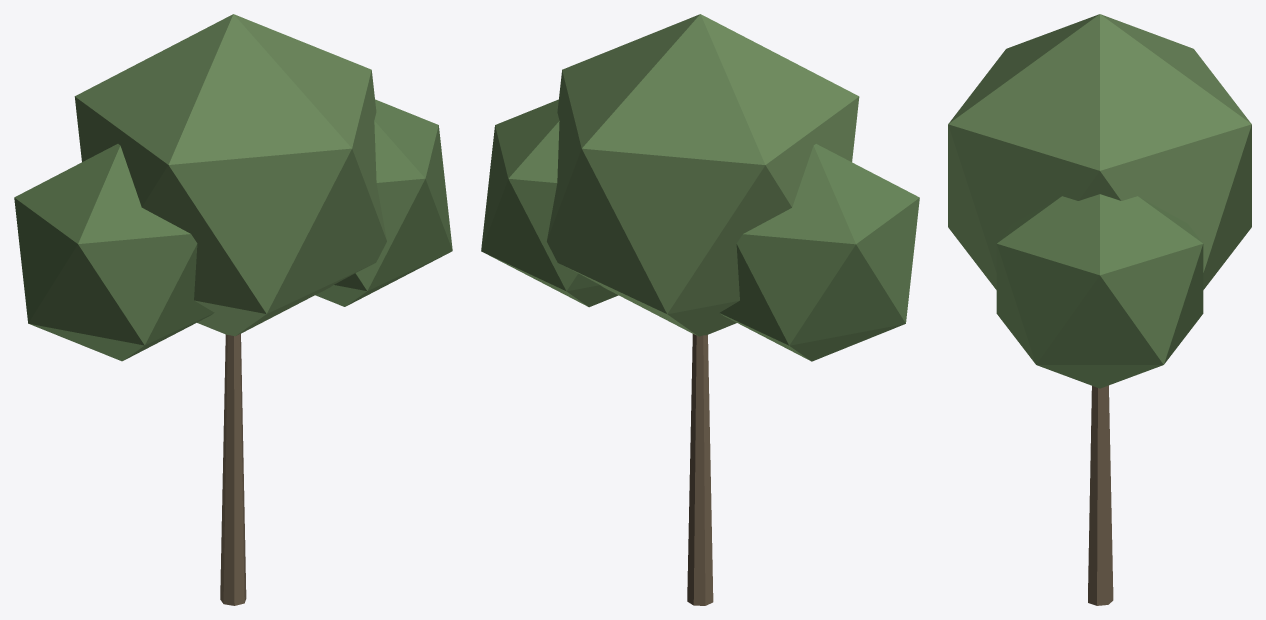
File: tree_oak_lod1.glb
3 views of the same model, side by side, from view 1: azimuth 30°, elevation 25°; view 2: azimuth 150°, elevation 25°; view 3: azimuth 270°, elevation 25° (orthographic).
Parts seen in each view (by area): view 1: tree_oak_lod1; view 2: tree_oak_lod1; view 3: tree_oak_lod1.
Boxes of the visible parts, <box> form: tree_oak_lod1: <box>14,14,452,605</box>; tree_oak_lod1: <box>481,14,919,605</box>; tree_oak_lod1: <box>948,14,1251,605</box>.
Bounding box in the file's own units: 5.65 × 7.71 × 3.62.
